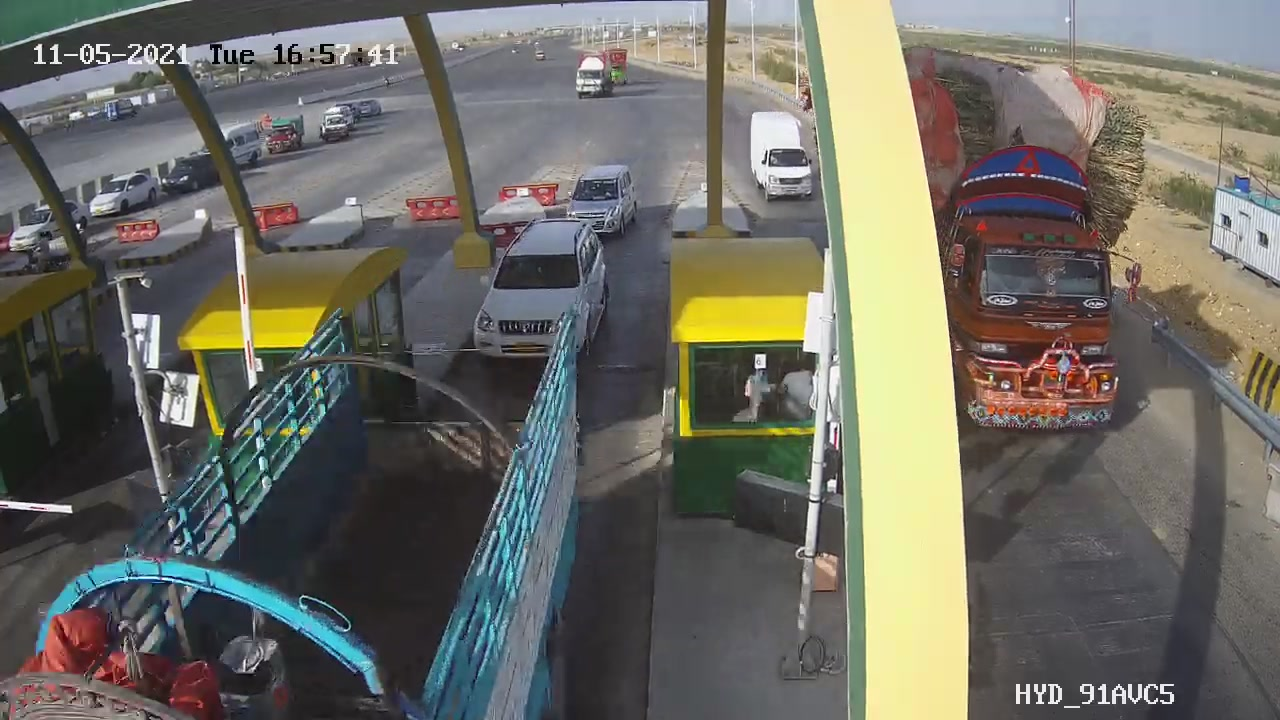F1: (452, 211, 633, 371), (559, 155, 646, 240)
